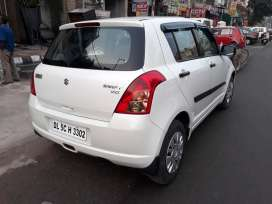license_plate: (51, 120, 87, 140)
